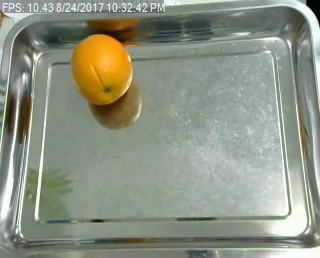Orange: (71, 34, 133, 105)
